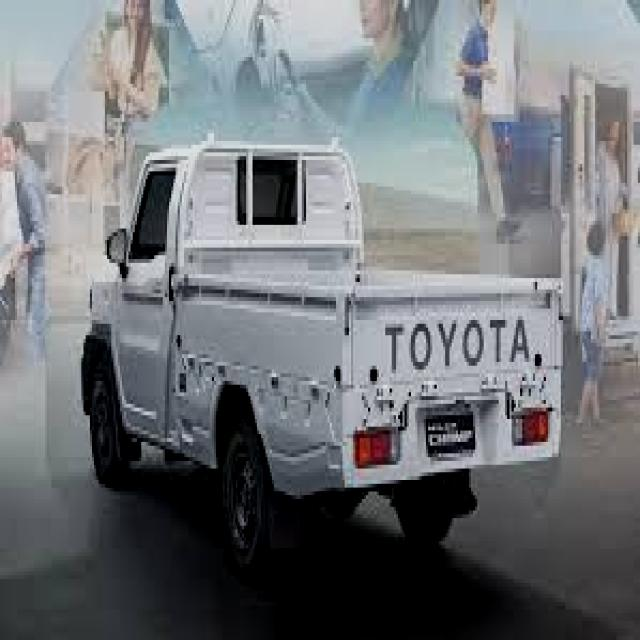CMT: (86, 139, 570, 586)
